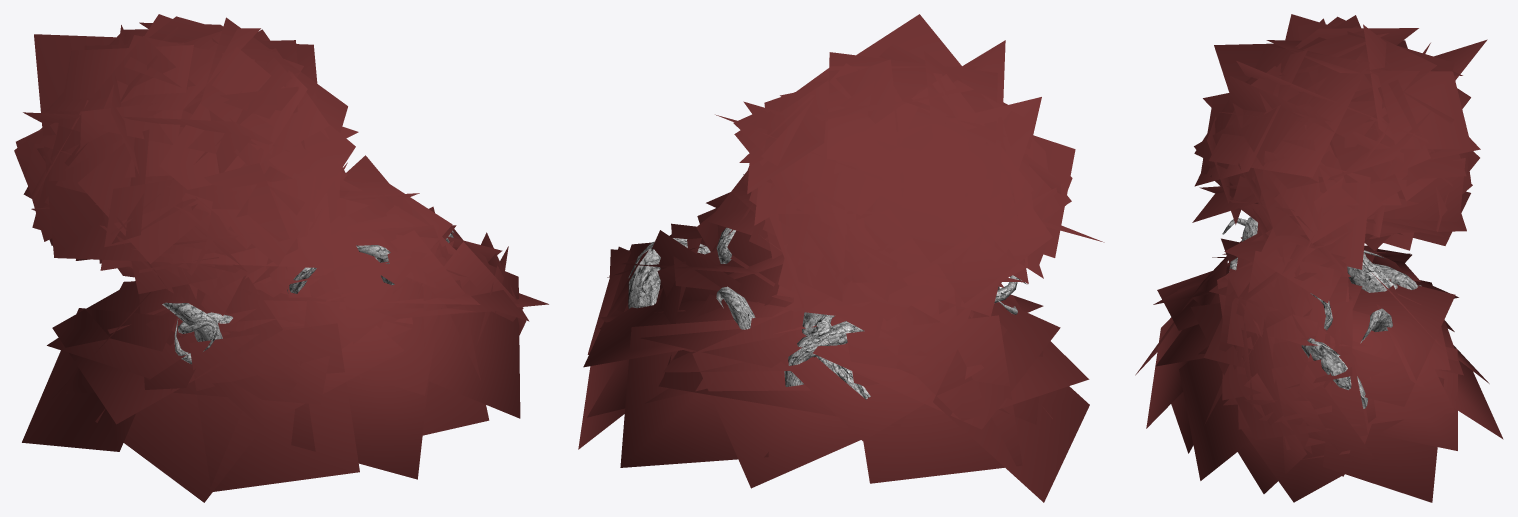
Rendered from tree4.fbx.
3 renders of one model, left to right at view 1: azimuth 30°, elevation 25°; view 2: azimuth 150°, elevation 25°; view 3: azimuth 270°, elevation 25°, orthographic. The views are drawn at different scales.
Parts seen in each view (by area): view 1: Plane, Bark; view 2: Plane, Bark; view 3: Plane, Bark.
Part boxes in pixels (x1=…): Plane: x1=14, y1=14, x2=548, y2=502; Bark: x1=162, y1=230, x2=454, y2=364; Plane: x1=578, y1=14, x2=1104, y2=502; Bark: x1=628, y1=227, x2=1027, y2=399; Plane: x1=1135, y1=14, x2=1503, y2=502; Bark: x1=1222, y1=217, x2=1421, y2=408.
Size of the model in its own units: 31.16 by 25.83 by 23.68.
